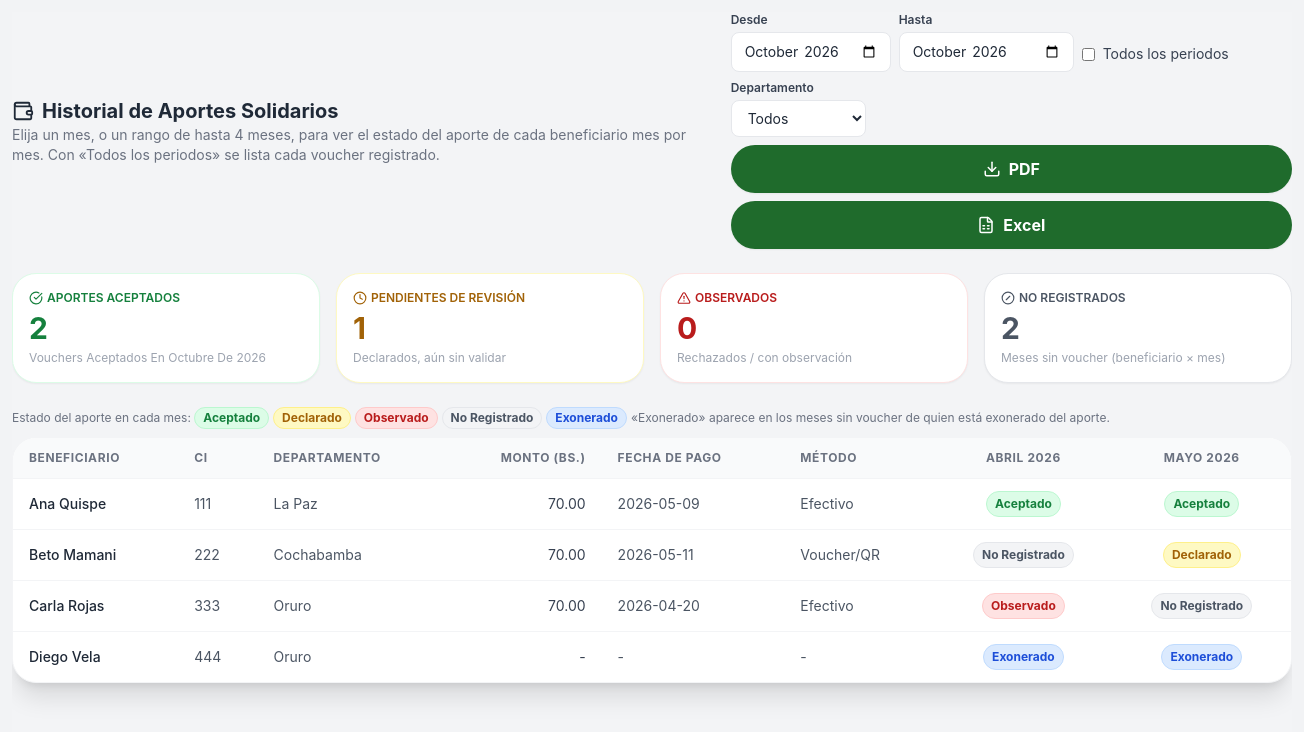
it: Historial de Aportes: con periodo, una columna por mes › pide el rango elegido y muestra el estado del aporte de cada beneficiario en cada mes
The image size is (1304, 732).
Check: the text "Ana Quispe" is shown, box [13,478,178,530]
Replace the text in the field labelled "Desde" with "2026-04" at (811, 52), box [731,32,891,72]
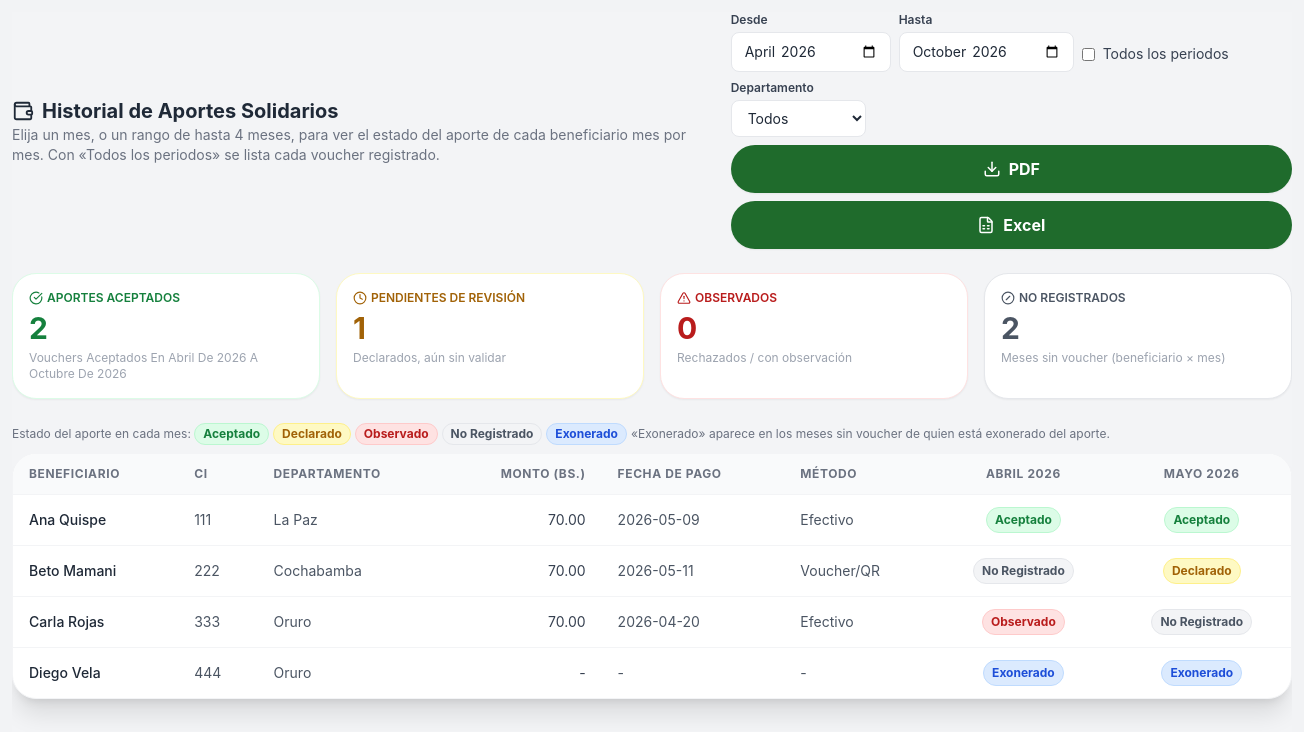
Replace the text in the field labelled "Hasta" with "2026-05" at (986, 52), box [899,32,1074,72]
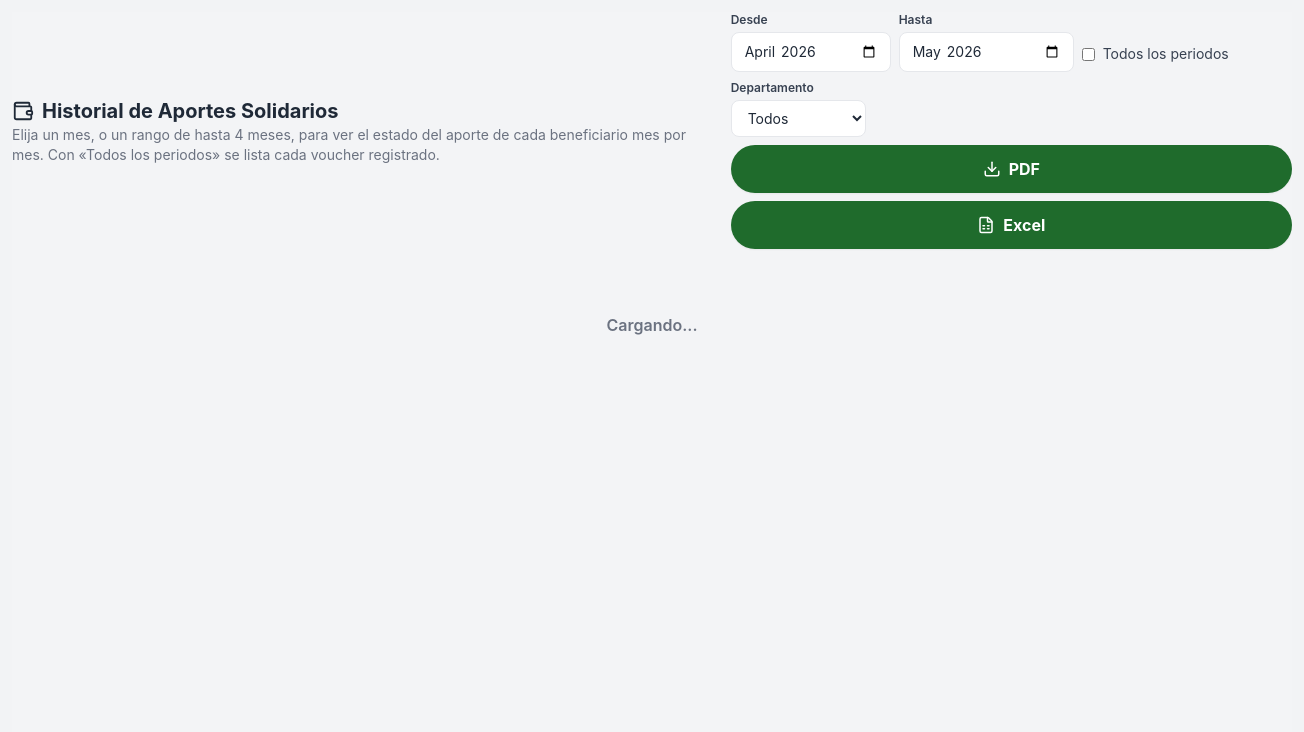
Select "La Paz" in the dropdown labelled "Departamento" at (798, 118), box [731,100,866,137]
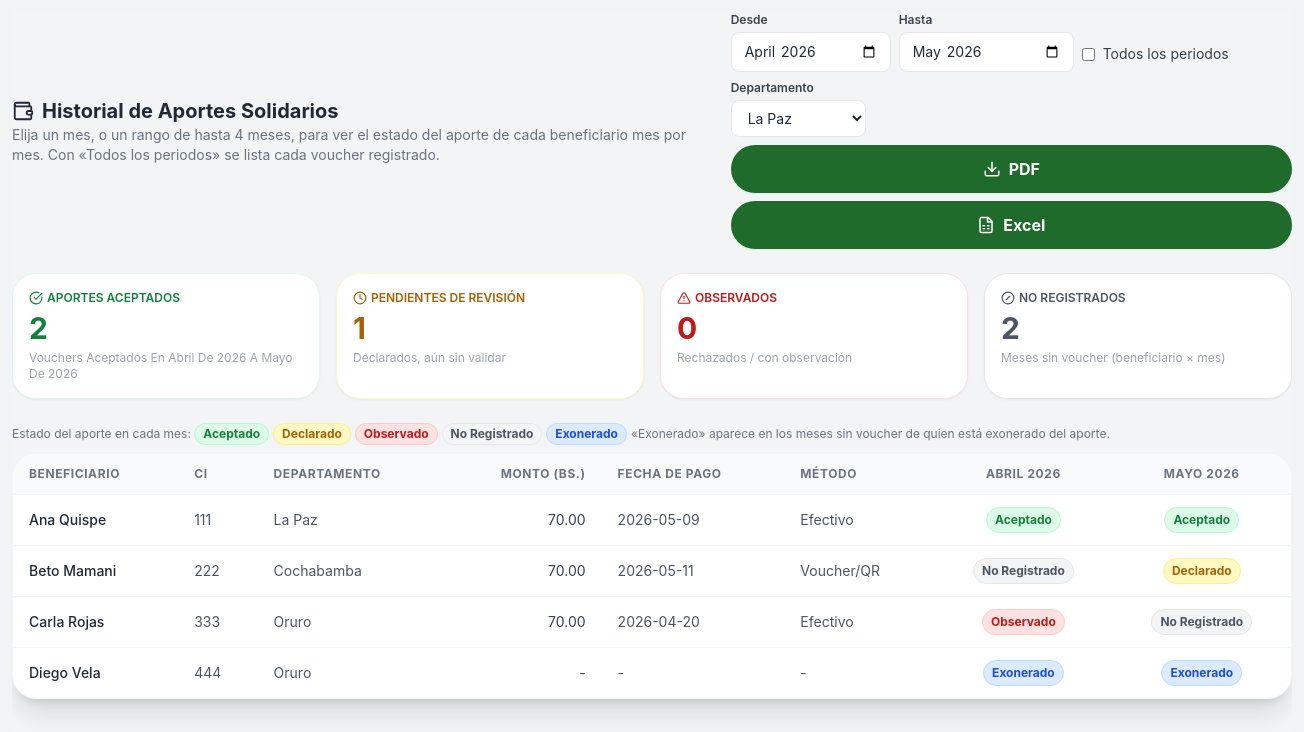
Check: the text "Ana Quispe" is shown once, box [13,494,178,546]
Check: the text "No Registrado" in the row of "Beto Mamani" is shown, box [982,563,1065,578]
Check: the text "Declarado" in the row of "Beto Mamani" is shown, box [1172,563,1232,578]
